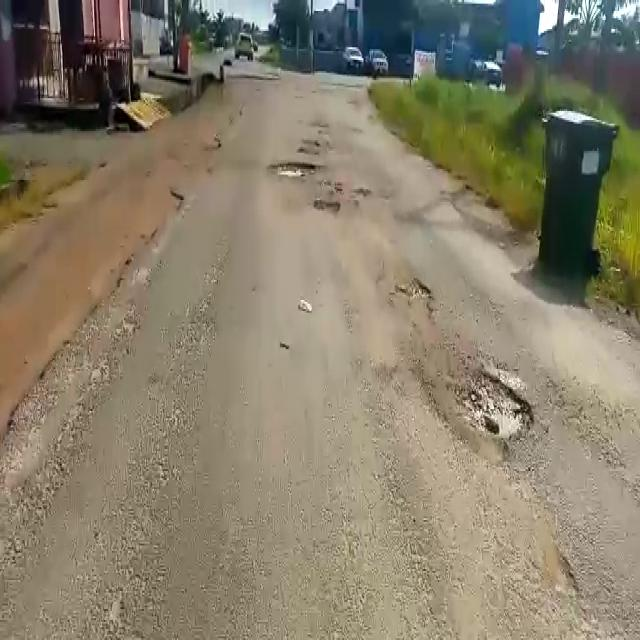Pothole: (453, 361, 537, 443), (390, 278, 433, 308), (266, 158, 316, 177), (312, 197, 341, 216)
